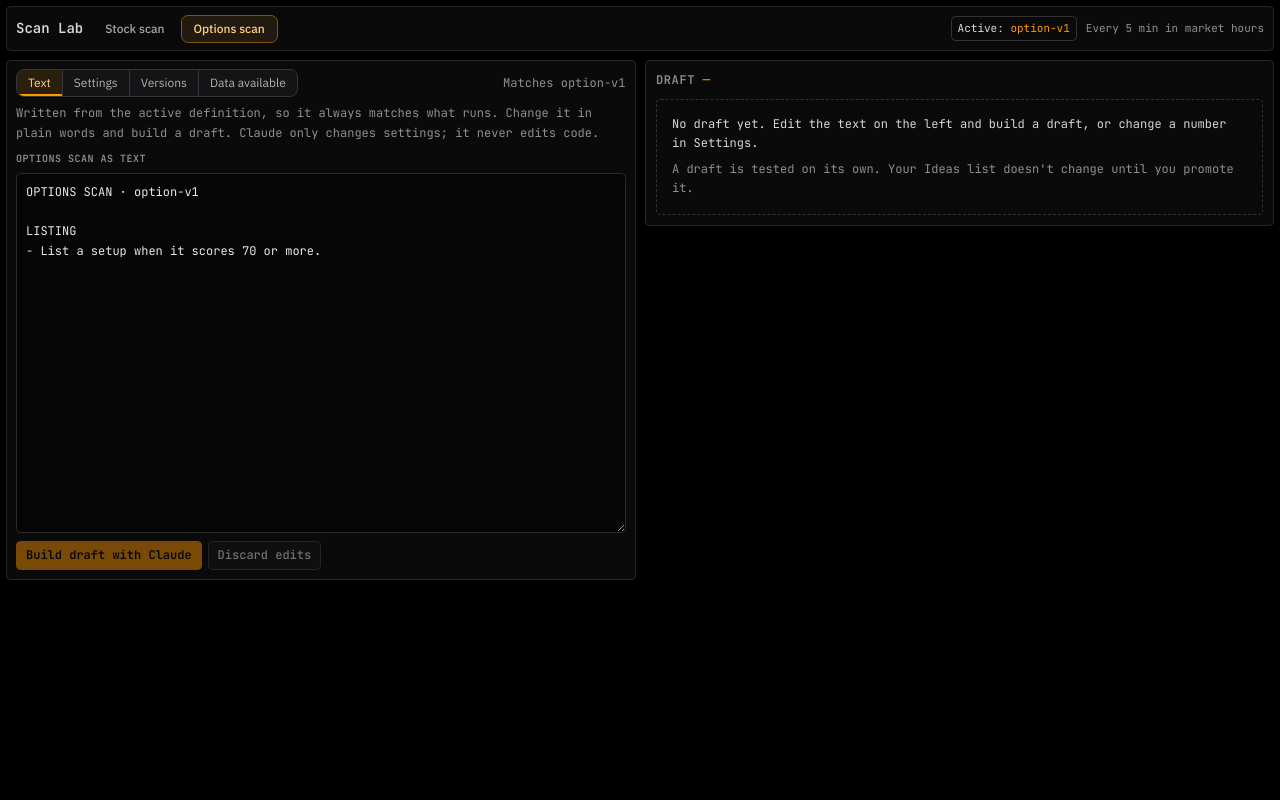
Test: ScanLabWidget shell › switches to the stock scan and its schedule
The image size is (1280, 800).
Expected: the text box labelled "Options scan as text" is shown, [16, 173, 626, 533]
Step 1. Click the tab "Stock scan" → (135, 28), box [92, 14, 178, 42]
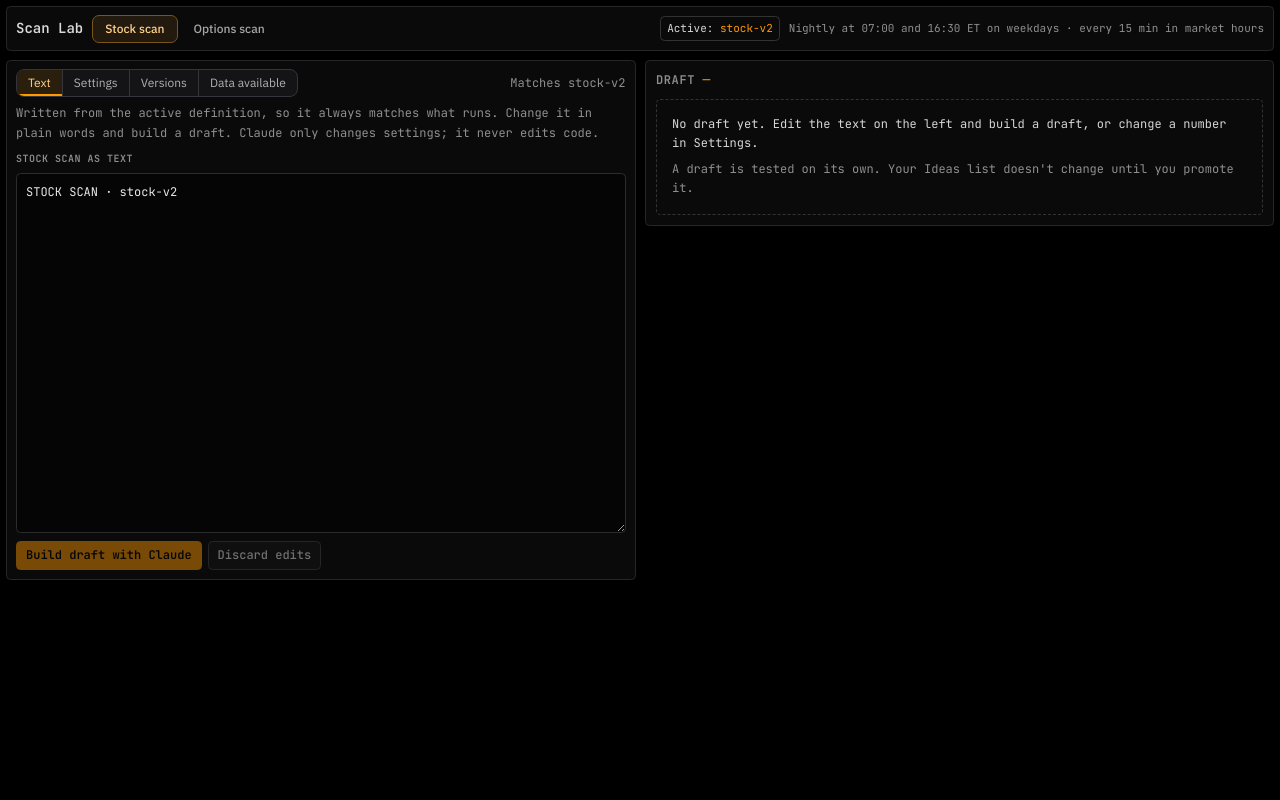
Expected: the text box labelled "Stock scan as text" is shown, [16, 173, 626, 533]
Expected: the text "Nightly at 07:00 and 16:30 ET" is shown, [789, 21, 1264, 35]
